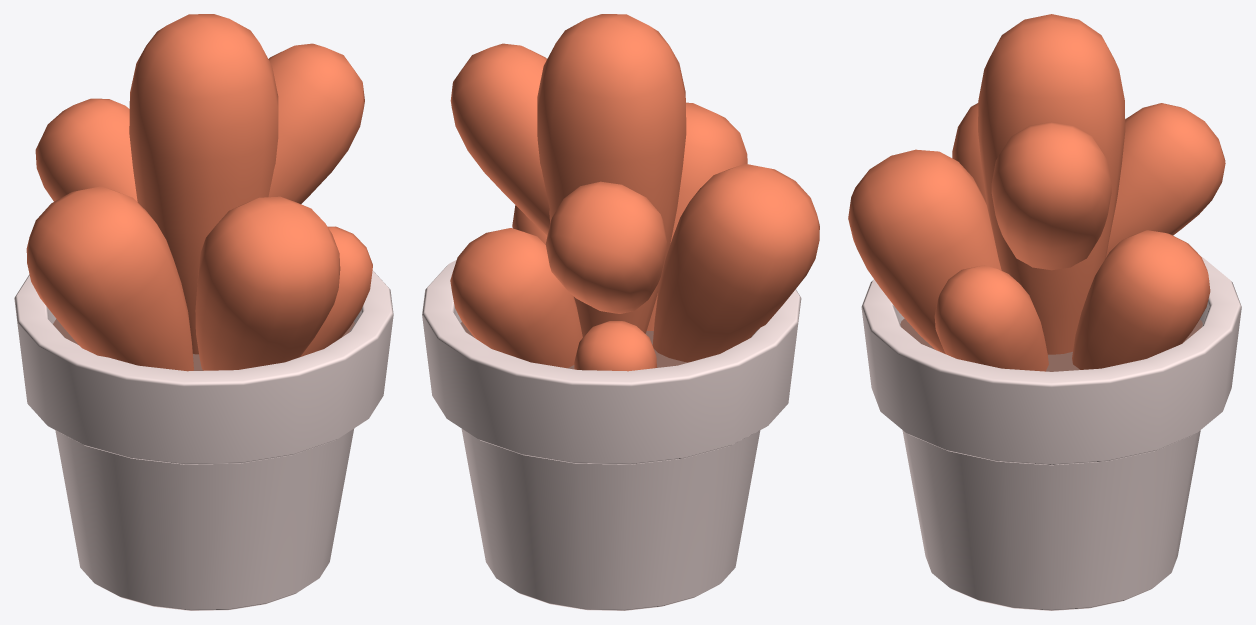
The model's file is City_19_Plant_2.glb.
The picture shows the model from 3 angles, left to right: view 1: azimuth 30°, elevation 25°; view 2: azimuth 150°, elevation 25°; view 3: azimuth 270°, elevation 25°; orthographic projection.
Visible parts, largest first — view 1: City_19_Plant_2; view 2: City_19_Plant_2; view 3: City_19_Plant_2.
Boxes of the visible parts, x1,y1,x2,y2 form: City_19_Plant_2: [14, 14, 393, 610]; City_19_Plant_2: [422, 14, 819, 610]; City_19_Plant_2: [848, 14, 1241, 610].
Bounding box in the file's own units: 0.8565 × 1.27 × 0.8401.
1 material, 1 textured.
